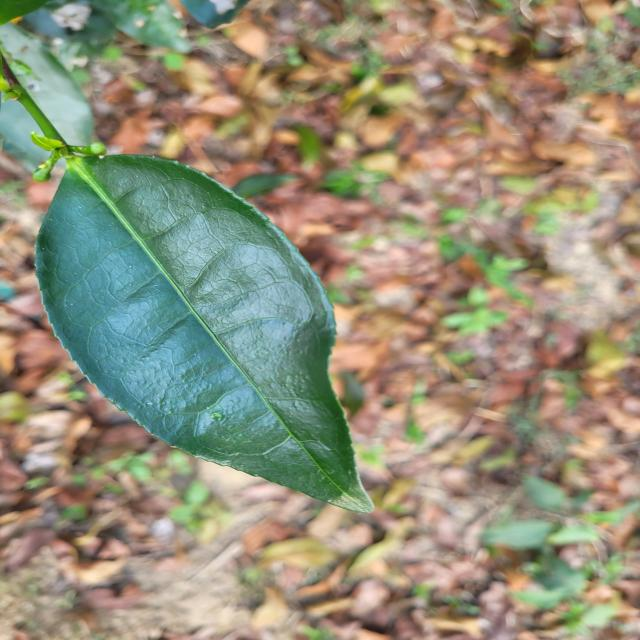Category D(7+ days, Not for Tea): (17, 122, 394, 542)
